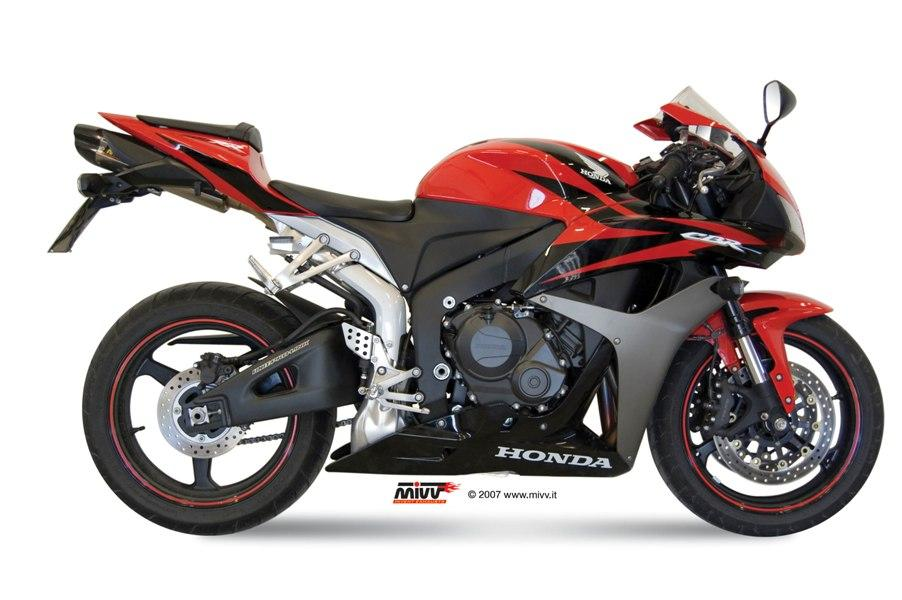engine-chasis: (325, 222, 631, 477)
exhaust: (529, 357, 618, 451), (149, 184, 279, 234), (72, 123, 166, 173)
frontside: (509, 85, 834, 469)
handlebar: (630, 125, 765, 219), (747, 79, 797, 156)
motorbike: (52, 86, 885, 536)
rearside: (47, 111, 556, 454)
seat: (270, 179, 413, 221), (136, 114, 264, 153)
tank: (415, 137, 641, 228)
watermark: (386, 480, 571, 519)
wheel: (81, 281, 338, 536), (647, 314, 885, 538), (220, 275, 367, 368), (335, 417, 354, 428)
